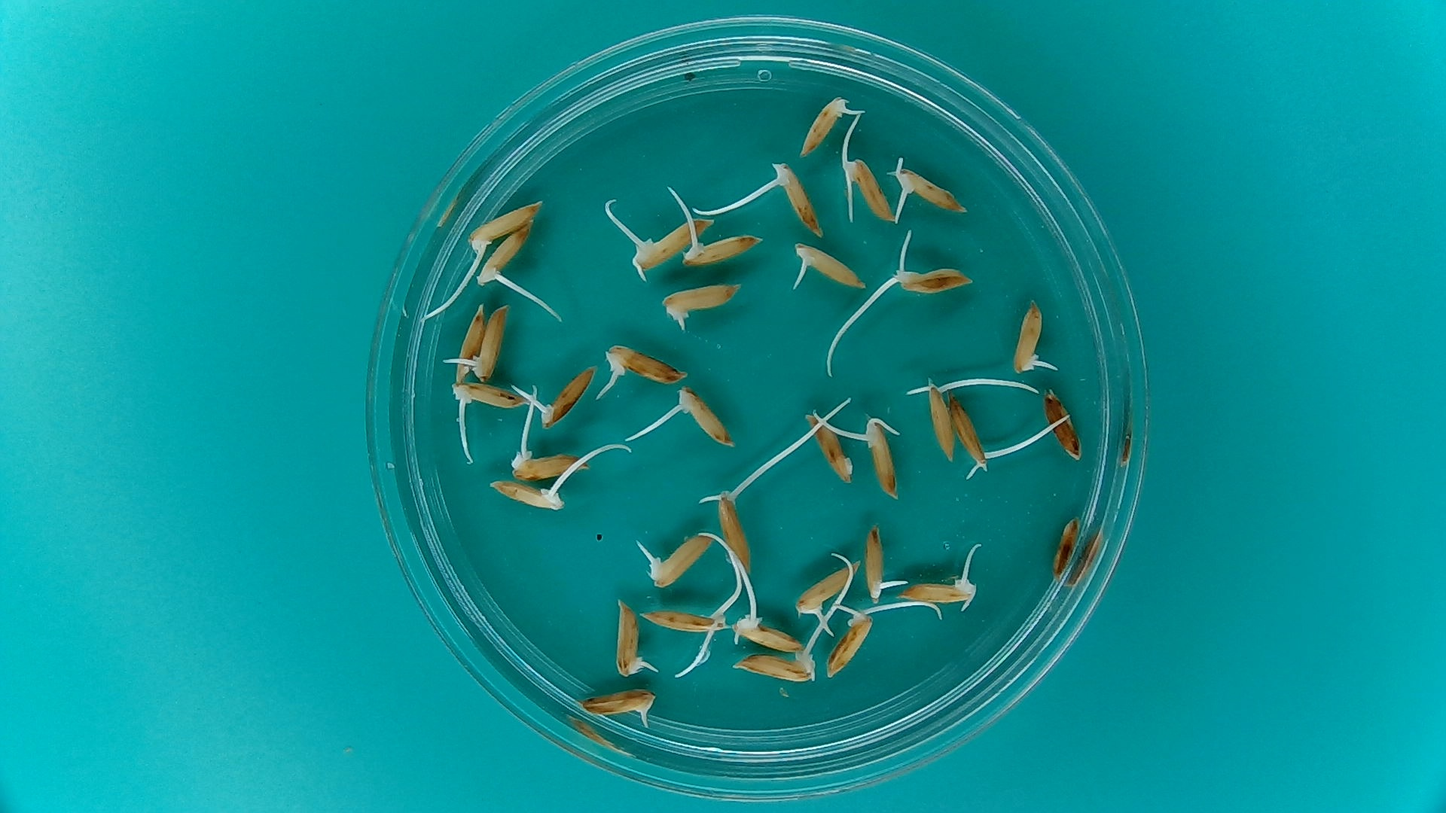no: (803, 406, 858, 486), (1042, 388, 1085, 462), (449, 300, 487, 382), (1048, 510, 1081, 585)
yes: (641, 528, 720, 591), (627, 216, 706, 276), (465, 197, 545, 256), (669, 381, 736, 448), (659, 278, 745, 330), (889, 161, 969, 215), (946, 386, 994, 474), (823, 604, 877, 682), (770, 158, 823, 237), (487, 477, 578, 523), (537, 363, 598, 431), (839, 150, 895, 224), (856, 412, 902, 501), (601, 340, 689, 386), (798, 93, 860, 158), (789, 241, 868, 292), (795, 556, 859, 617), (1011, 294, 1057, 377), (475, 222, 530, 291), (711, 486, 754, 573), (464, 299, 509, 382), (612, 595, 654, 678), (679, 228, 764, 269), (887, 257, 974, 297), (921, 370, 958, 464), (633, 600, 725, 637), (502, 442, 587, 480), (577, 686, 657, 726), (896, 573, 979, 611), (731, 648, 817, 684), (733, 613, 808, 653), (449, 378, 526, 411), (863, 519, 893, 602)
